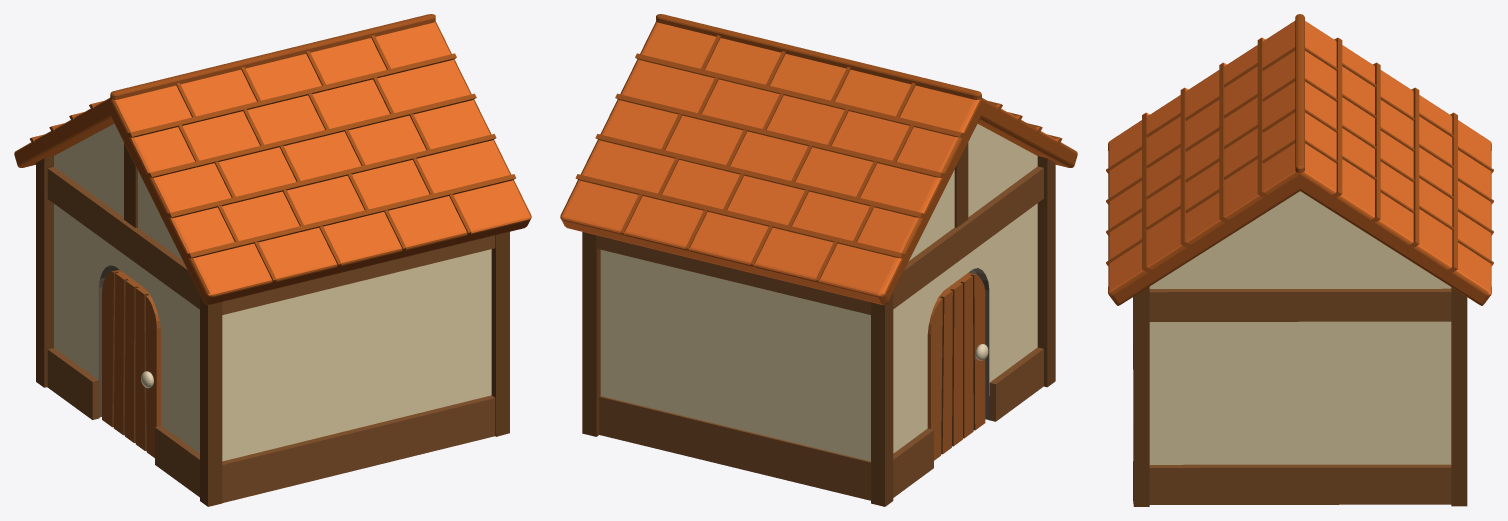
Rendered from house_B.fbx.
The picture shows the model from 3 angles, left to right: view 1: azimuth 30°, elevation 25°; view 2: azimuth 150°, elevation 25°; view 3: azimuth 270°, elevation 25°; orthographic projection. The views are drawn at different scales.
Visible parts, largest first — view 1: Roof, Wall, Beam, Door; view 2: Roof, Wall, Beam, Door; view 3: Roof, Wall, Beam.
Boxes of the visible parts, x1=… form: Roof: x1=14, y1=14, x2=531, y2=304; Wall: x1=54, y1=123, x2=491, y2=461; Beam: x1=36, y1=143, x2=509, y2=506; Door: x1=102, y1=269, x2=161, y2=457; Roof: x1=560, y1=14, x2=1077, y2=304; Wall: x1=600, y1=123, x2=1037, y2=461; Beam: x1=582, y1=142, x2=1055, y2=506; Door: x1=927, y1=272, x2=985, y2=460; Roof: x1=1106, y1=14, x2=1493, y2=305; Wall: x1=1149, y1=191, x2=1451, y2=464; Beam: x1=1133, y1=286, x2=1467, y2=506.
Bounding box in the file's own units: 600 × 626 × 637.
